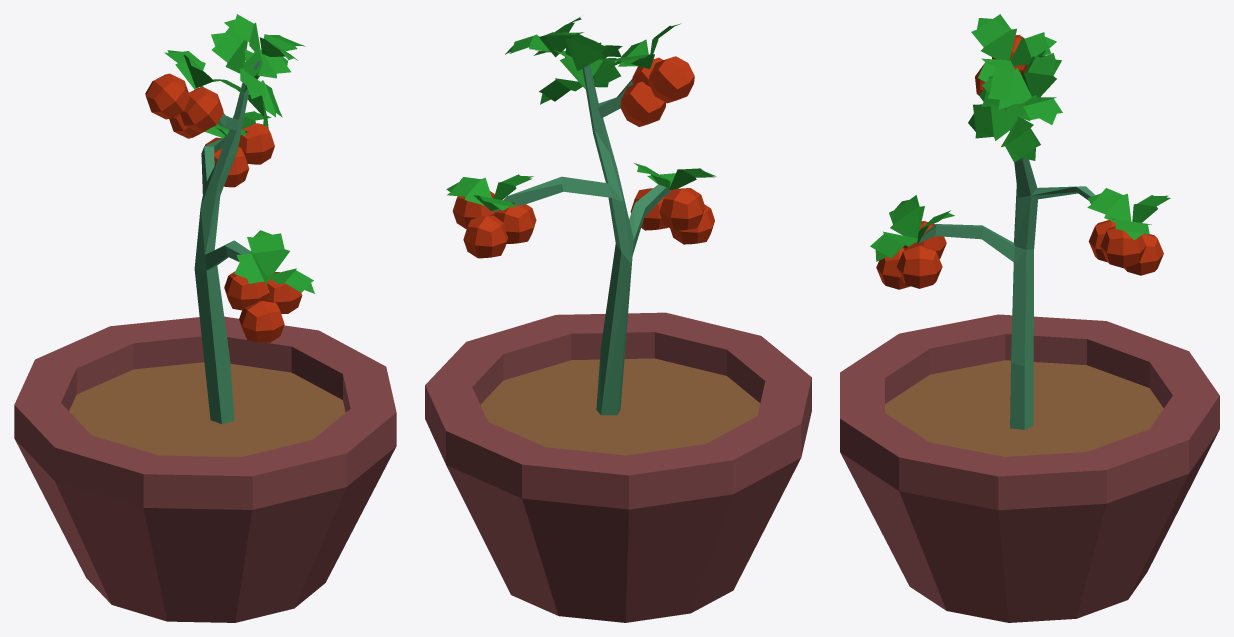
The model's file is Tomatoes Plant.fbx.
3 views of the same model, side by side, from view 1: azimuth 30°, elevation 25°; view 2: azimuth 150°, elevation 25°; view 3: azimuth 270°, elevation 25° (orthographic).
Visible parts, largest first — view 1: Tomatoes Plant; view 2: Tomatoes Plant; view 3: Tomatoes Plant.
Part boxes in pixels (x1,y1,x2,y2): Tomatoes Plant: (14,14,396,622); Tomatoes Plant: (425,17,811,622); Tomatoes Plant: (840,14,1219,622).
Bounding box in the file's own units: 0.5899 × 0.9167 × 0.5839.
